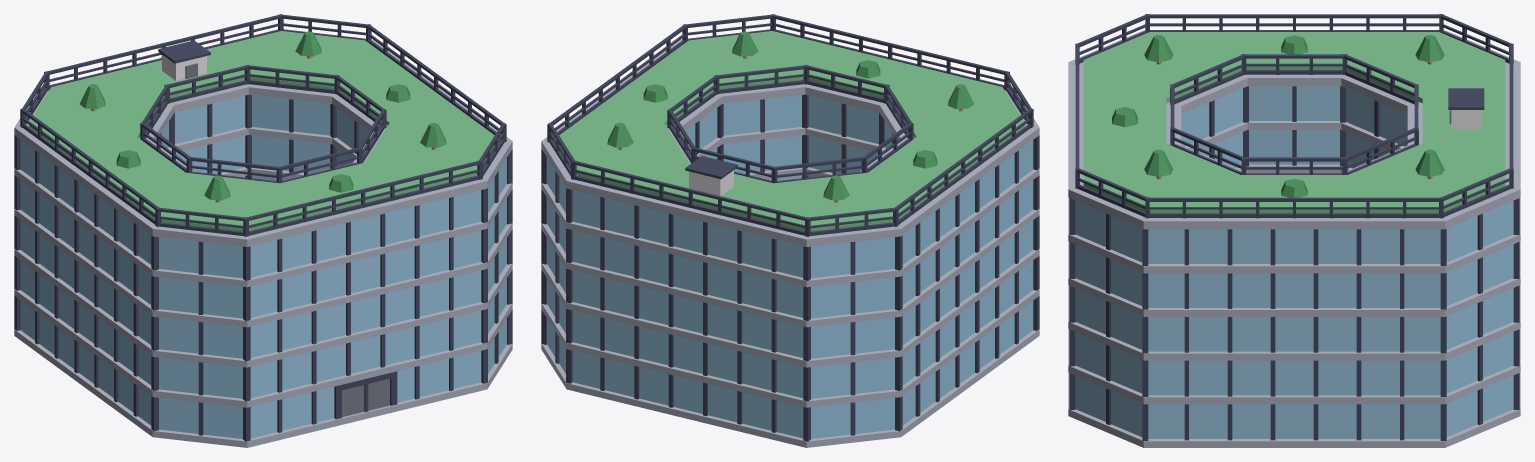
File: office-octagon-3x3-t6-tone-a.glb
3 views of the same model, side by side, from view 1: azimuth 30°, elevation 25°; view 2: azimuth 150°, elevation 25°; view 3: azimuth 270°, elevation 25° (orthographic). The views are drawn at different scales.
Parts seen in each view (by area): view 1: office-octagon-3x3-t6-tone-a; view 2: office-octagon-3x3-t6-tone-a; view 3: office-octagon-3x3-t6-tone-a.
Boxes of the visible parts, x1,y1,x2,y2 form: office-octagon-3x3-t6-tone-a: (14,14,512,447); office-octagon-3x3-t6-tone-a: (541,14,1039,447); office-octagon-3x3-t6-tone-a: (1068,14,1520,447).
Size of the model in its own units: 3 by 1.89 by 3.
Materials: 1 (1 with a texture image).
